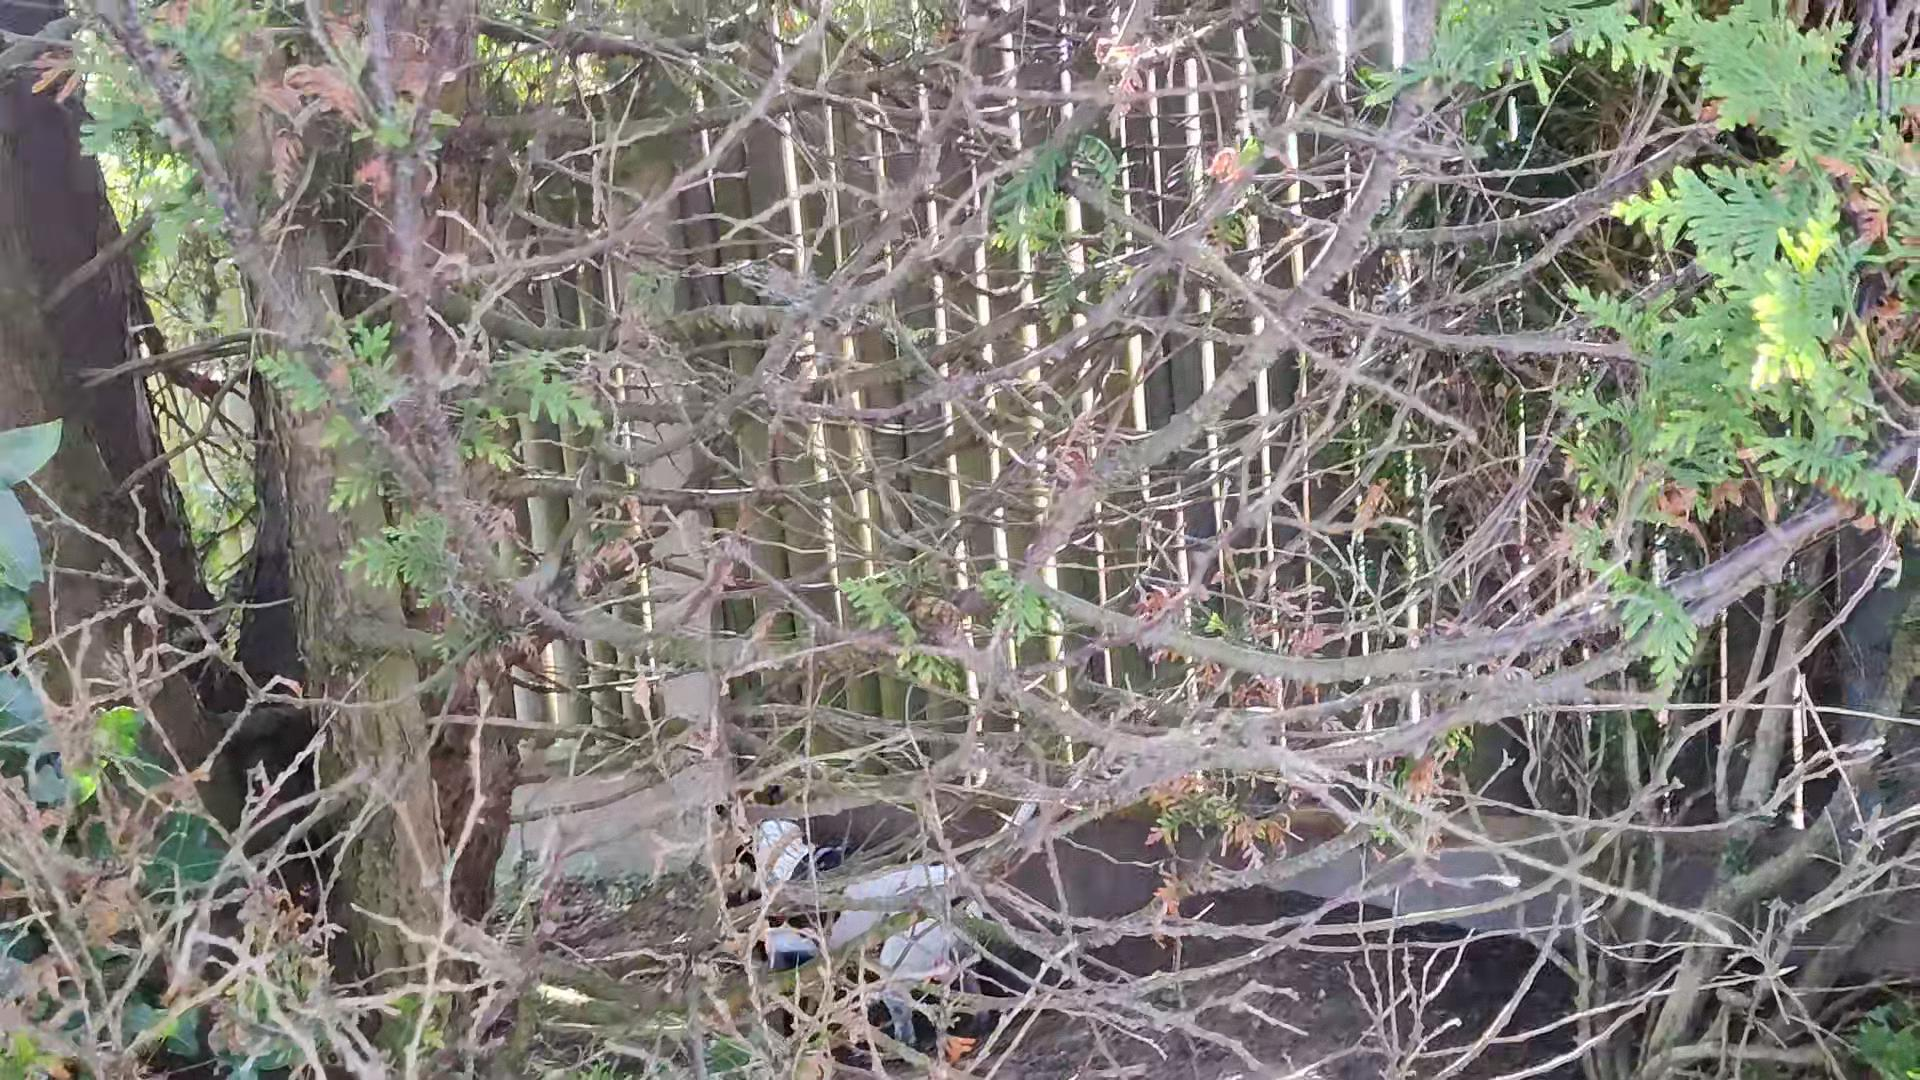Dog: (723, 764, 1046, 1054)
